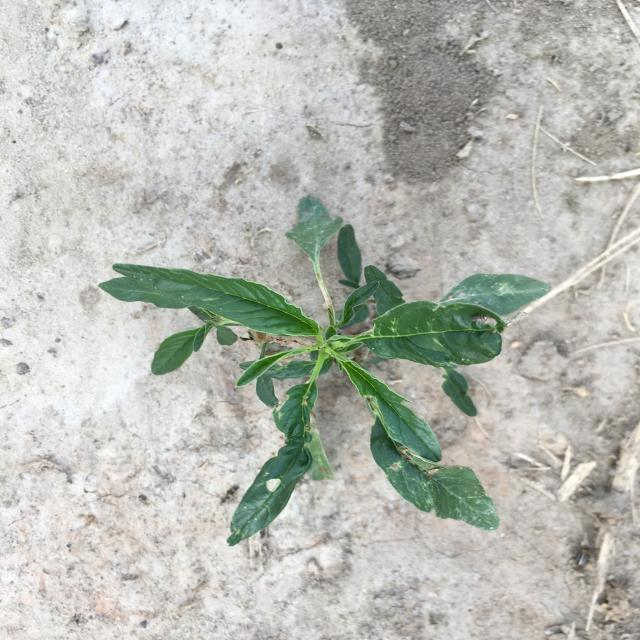Waterhemp: (99, 195, 552, 548)
